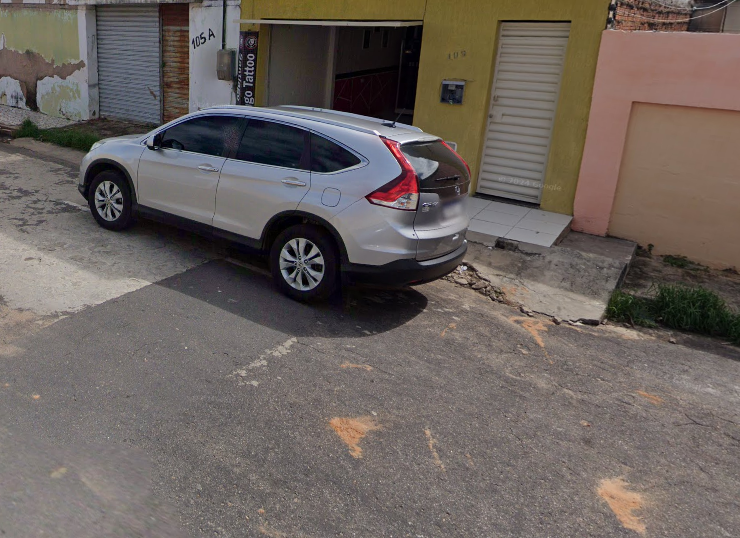car: (75, 90, 477, 314)
